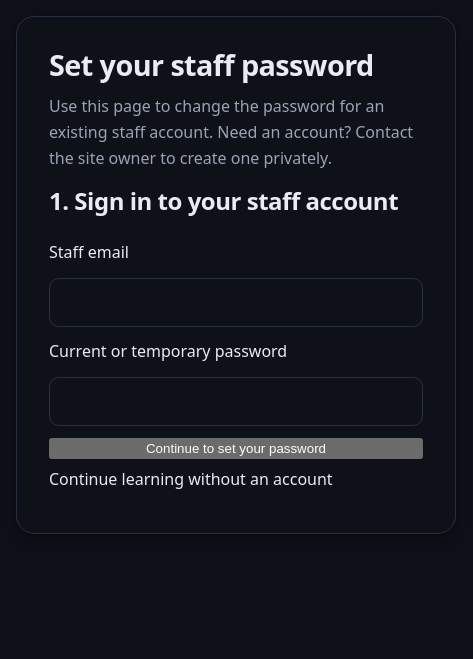
Test: private staff password setup › keeps the form retryable when Auth rejects a change
Type "owner@example.com" into the field labelled "Staff email" at x=236, y=302, box x1=49 y1=278 x2=423 y2=327
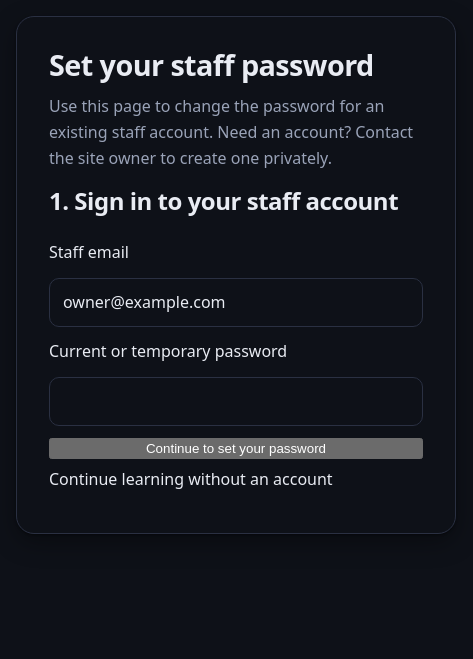
Type "test-temporary-value" into the password field labelled "Current or temporary password" at x=236, y=402, box x1=49 y1=377 x2=423 y2=426
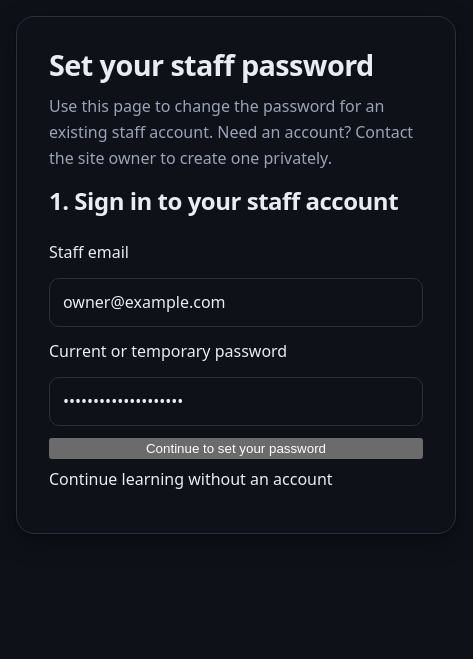
Click the button "Continue to set your password" at x=236, y=449, box x1=49 y1=438 x2=423 y2=459
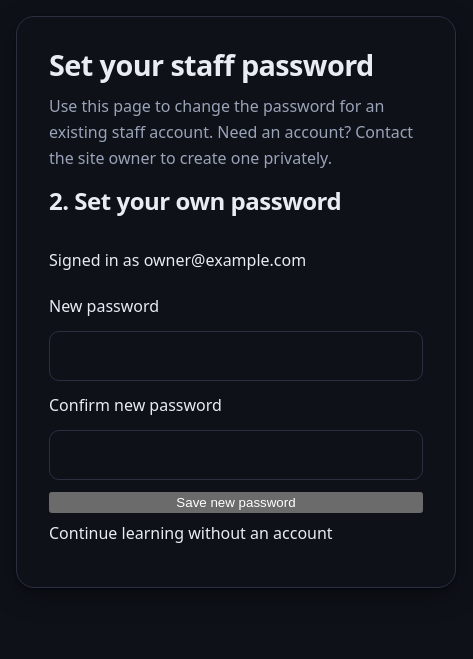
Expected: the password field labelled "New password" is shown
Type "test-new-password" into the password field labelled "New password" at x=236, y=356, box x1=49 y1=331 x2=423 y2=381
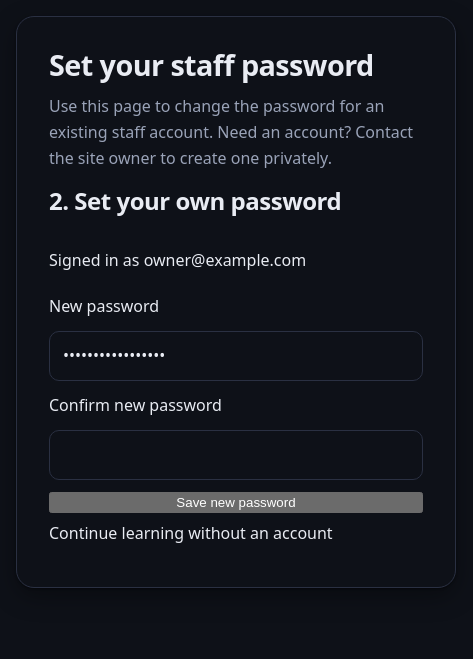
Type "test-new-password" into the password field labelled "Confirm new password" at x=236, y=455, box x1=49 y1=430 x2=423 y2=480
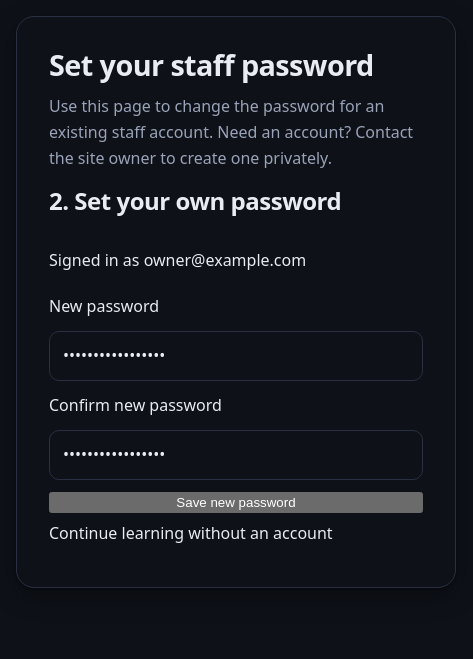
Click the button "Save new password" at x=236, y=502, box x1=49 y1=492 x2=423 y2=513
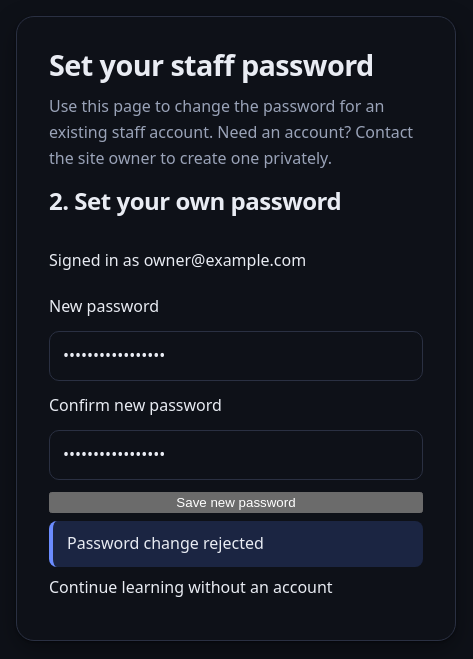
Expected: the message reads "Password change rejected", x1=67 y1=532 x2=264 y2=554
